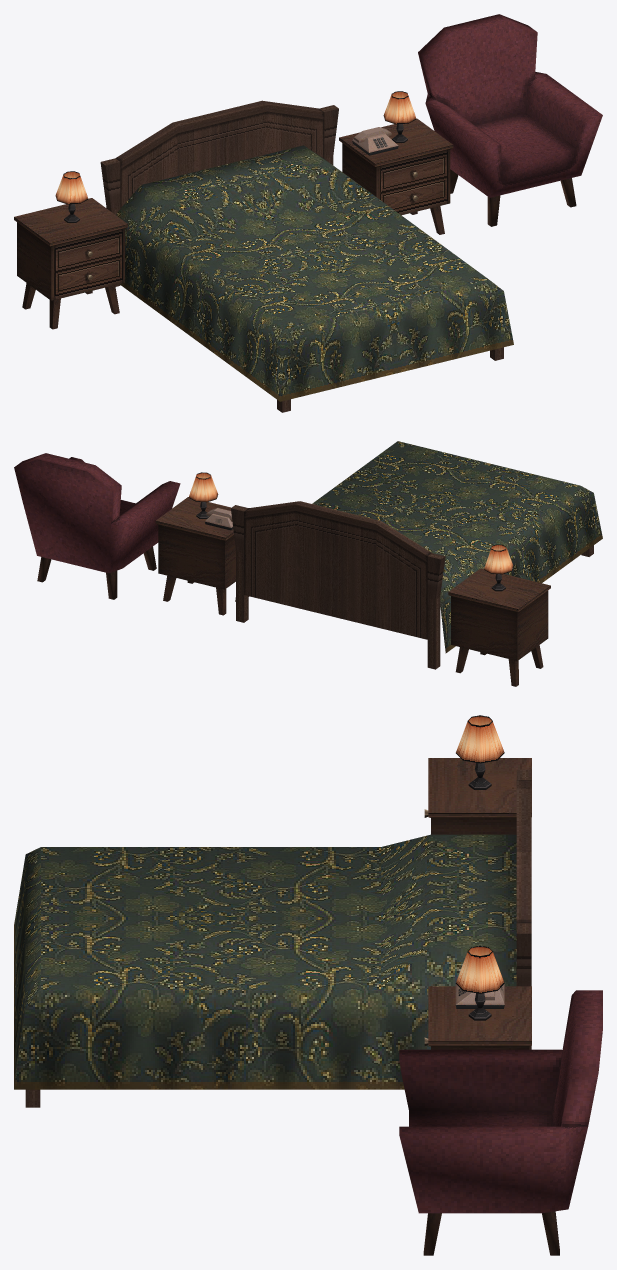
The model's file is ps1_inspired_bedroom_and_armchair_-_summer85.glb.
3 renders of one model, top to bottom at view 1: azimuth 30°, elevation 25°; view 2: azimuth 150°, elevation 25°; view 3: azimuth 270°, elevation 25°, orthographic. The views are drawn at different scales.
Parts seen in each view (by area): view 1: Bedspread_1, Armchair_0, Headboard_2, Nightstand.001_10, Nightstand_7, Table Lamp_4, Table Lamp.001_6, Phone_9; view 2: Bedspread_1, Headboard_2, Armchair_0, Nightstand.001_10, Nightstand_7, Table Lamp.001_6, Table Lamp_4; view 3: Bedspread_1, Armchair_0, Nightstand.001_10, Nightstand_7, Headboard_2, Table Lamp_4, Table Lamp.001_6, Phone_9.
Part boxes in pixels (x1,y1,x2,y2): Bedspread_1: (116,145,513,401); Armchair_0: (418,14,602,226); Headboard_2: (100,100,503,412); Nightstand.001_10: (14,198,127,329); Nightstand_7: (339,118,453,234); Table Lamp_4: (383,91,416,142); Table Lamp.001_6: (55,171,88,222); Phone_9: (352,133,398,155); Bedspread_1: (235,441,602,653); Headboard_2: (231,501,593,669); Armchair_0: (14,453,180,599); Nightstand.001_10: (448,568,550,686); Nightstand_7: (155,497,249,615); Table Lamp.001_6: (484,544,513,591); Table Lamp_4: (188,472,218,518); Bedspread_1: (14,834,516,1089); Armchair_0: (399,990,602,1255); Nightstand.001_10: (424,758,531,834); Nightstand_7: (424,986,531,1049); Headboard_2: (25,769,531,1107); Table Lamp_4: (455,945,504,1020); Table Lamp.001_6: (456,715,504,789); Phone_9: (455,984,504,1008).
Size of the model in its own units: 4.11 by 1.09 by 2.68.
6 materials, 6 textured.
